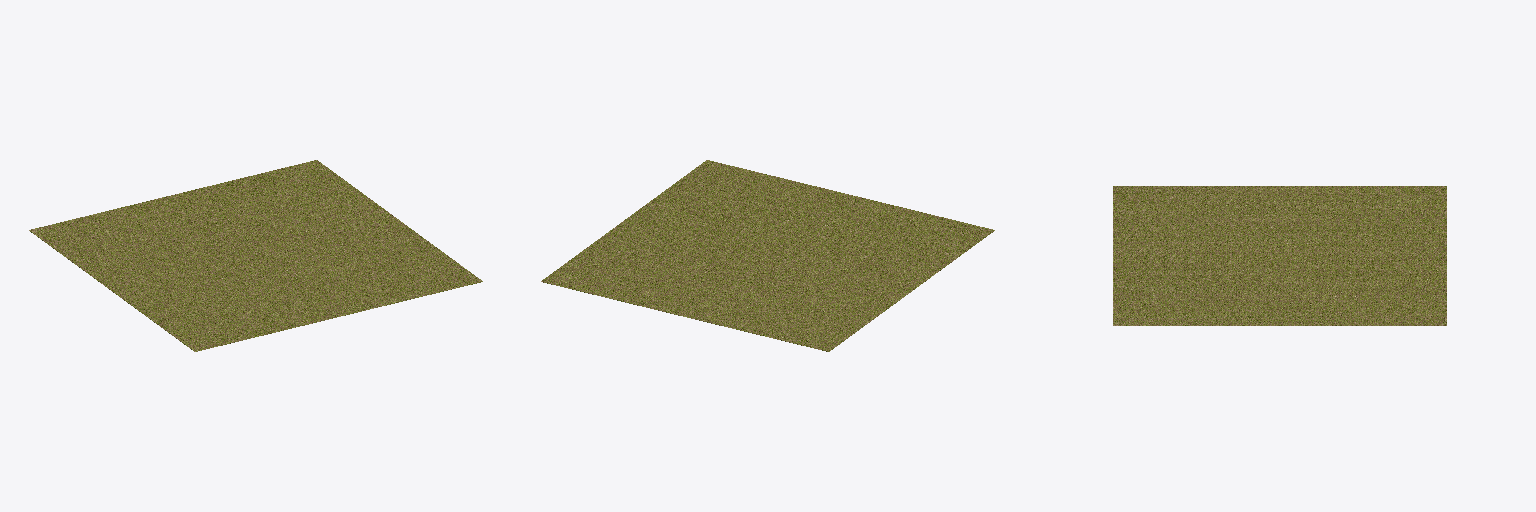
3 renders of one model, left to right at view 1: azimuth 30°, elevation 25°; view 2: azimuth 150°, elevation 25°; view 3: azimuth 270°, elevation 25°, orthographic.
Parts seen in each view (by area): view 1: Cube; view 2: Cube; view 3: Cube.
Part boxes in pixels (x1,y1,x2,y2): Cube: (29,160,482,351); Cube: (541,160,994,351); Cube: (1113,186,1446,325).
Bounding box in the file's own units: 200 × 0.1 × 200.
Materials: 2 (1 with a texture image).